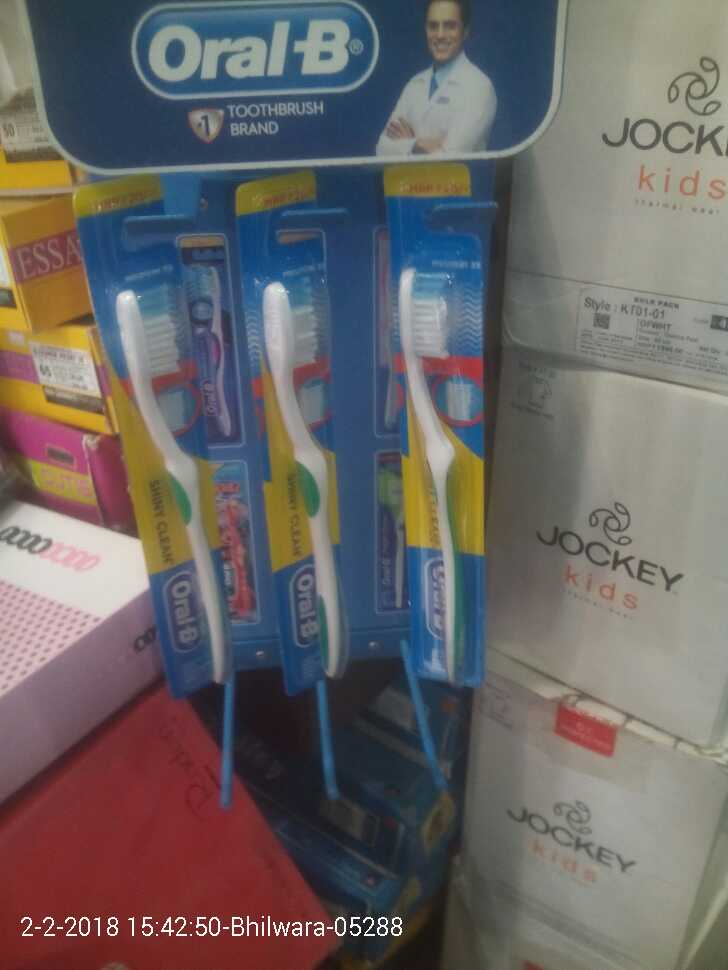oralb: (73, 184, 263, 704), (234, 169, 370, 700), (382, 155, 488, 695)
